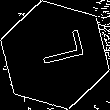L_W: (26, 34, 84, 76)
